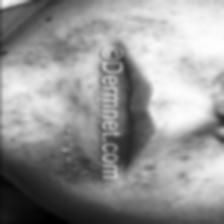Non-Cancerous Skin Condition: (138, 13, 208, 215), (16, 30, 92, 190)
